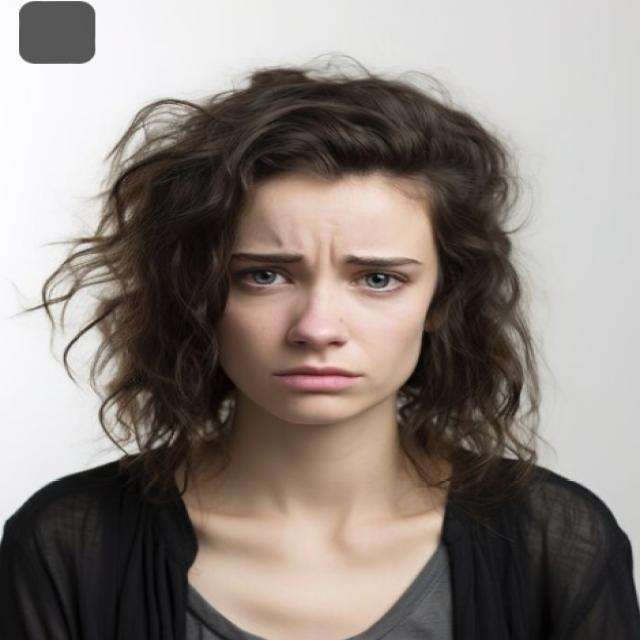Sad: (139, 87, 462, 451)
